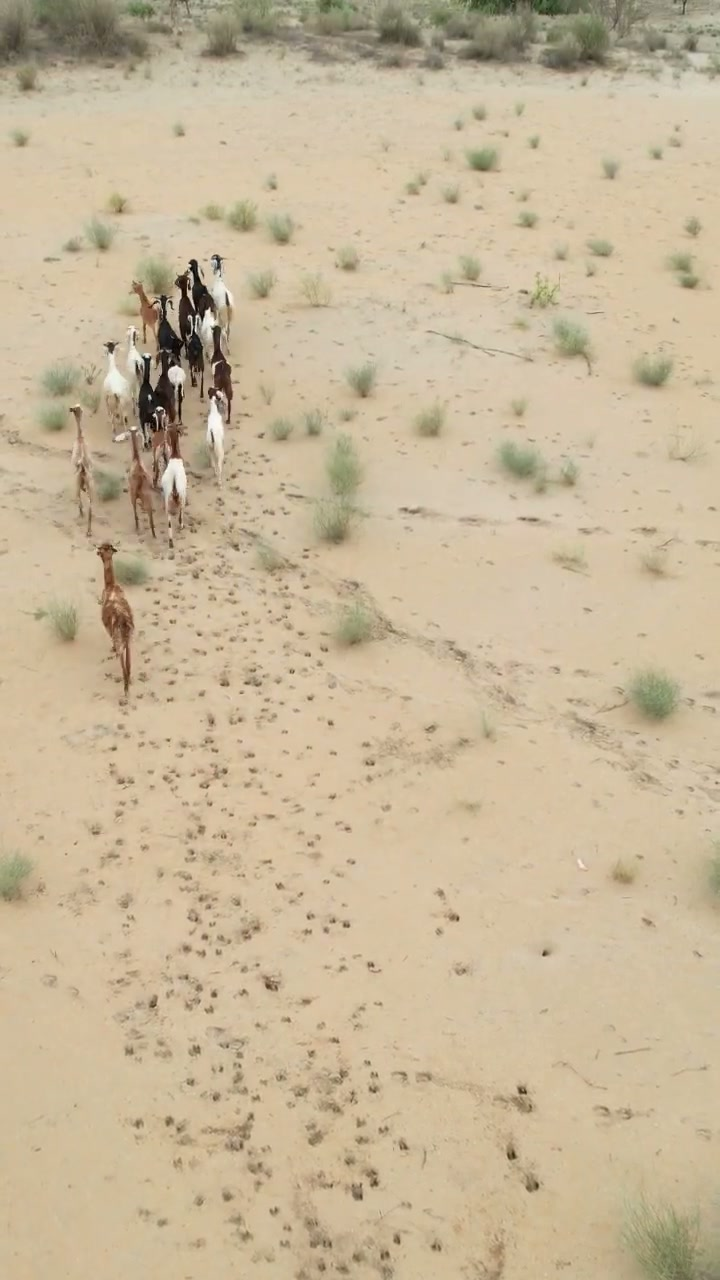animal_footprint: (106, 534, 436, 1256)
